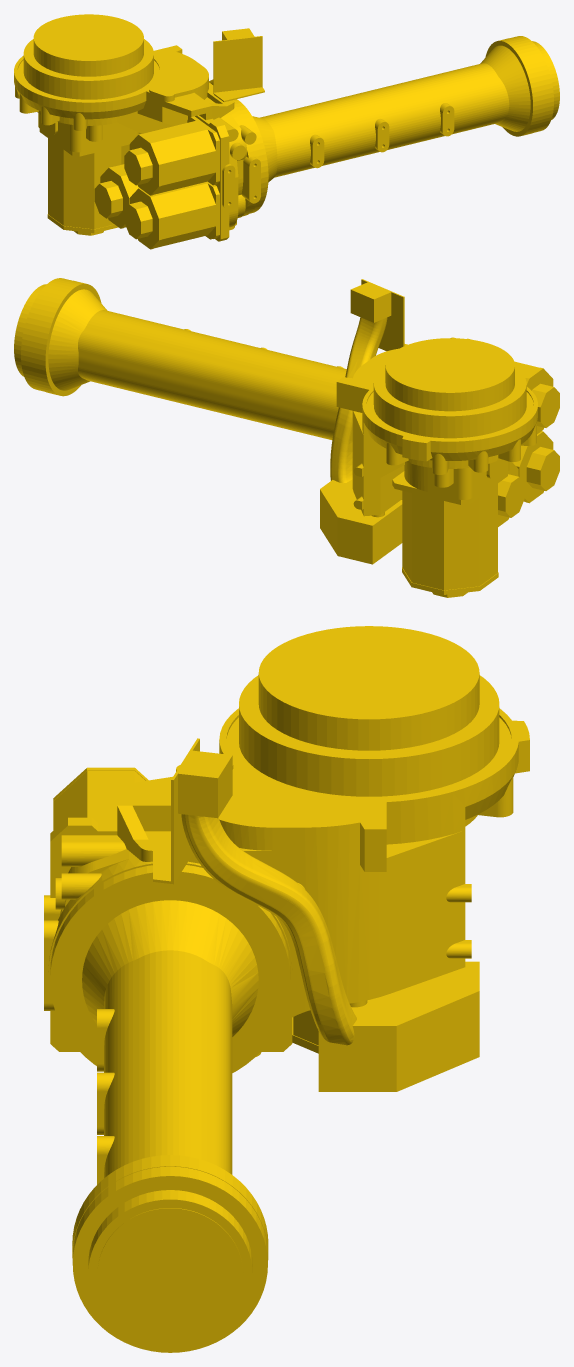
3 renders of one model, top to bottom at view 1: azimuth 30°, elevation 25°; view 2: azimuth 150°, elevation 25°; view 3: azimuth 270°, elevation 25°, orthographic. The views are drawn at different scales.
Parts seen in each view (by area): view 1: Node_0x7f98ee6acf00; view 2: Node_0x7f98ee6acf00; view 3: Node_0x7f98ee6acf00.
Boxes of the visible parts, <box> form: Node_0x7f98ee6acf00: <box>14,14,559,249</box>; Node_0x7f98ee6acf00: <box>14,278,559,597</box>; Node_0x7f98ee6acf00: <box>44,626,529,1352</box>.
Size of the model in its own units: 1.22 by 0.4939 by 0.55.
